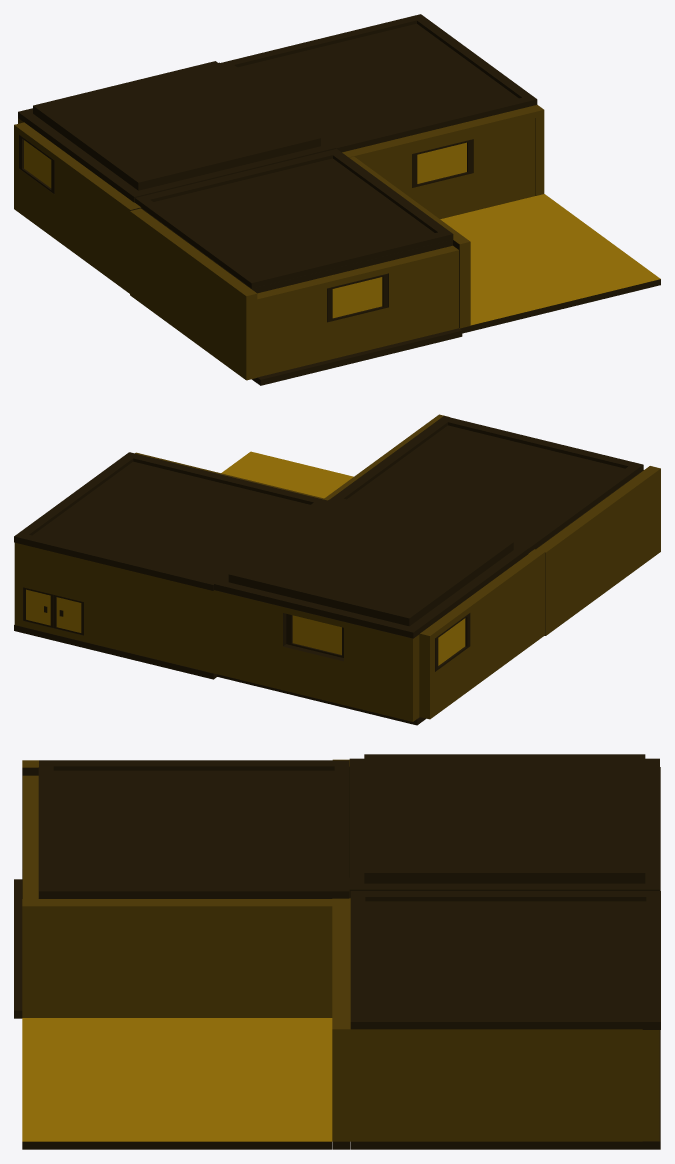
File: Side_House_Blocks.fbx
The picture shows the model from 3 angles, top to bottom: view 1: azimuth 30°, elevation 25°; view 2: azimuth 150°, elevation 25°; view 3: azimuth 270°, elevation 25°; orthographic projection. The views are drawn at different scales.
Parts seen in each view (by area): view 1: polySurface89, polySurface86, polySurface88, polySurface69, polySurface71, polySurface65, polySurface85, polySurface80, polySurface81, polySurface76, polySurface68, polySurface66 (+3 smaller); view 2: polySurface86, polySurface88, polySurface89, polySurface67, polySurface82, polySurface65, polySurface85, polySurface69, polySurface75, polySurface79, polySurface77, polySurface72 (+3 smaller); view 3: polySurface89, polySurface88, polySurface86, polySurface69, polySurface81, polySurface70, polySurface79, polySurface71, polySurface82, polySurface66.
Boxes of the visible parts, x1=… form: polySurface89: x1=135, y1=149, x2=453, y2=288; polySurface86: x1=18, y1=61, x2=335, y2=202; polySurface88: x1=220, y1=14, x2=537, y2=152; polySurface69: x1=440, y1=194, x2=660, y2=333; polySurface71: x1=254, y1=245, x2=458, y2=381; polySurface65: x1=130, y1=208, x2=257, y2=380; polySurface85: x1=14, y1=122, x2=141, y2=293; polySurface80: x1=360, y1=118, x2=535, y2=219; polySurface81: x1=342, y1=105, x2=544, y2=195; polySurface76: x1=327, y1=273, x2=388, y2=322; polySurface68: x1=412, y1=139, x2=473, y2=187; polySurface66: x1=252, y1=328, x2=462, y2=385; polySurface86: x1=214, y1=498, x2=528, y2=638; polySurface88: x1=14, y1=452, x2=327, y2=590; polySurface89: x1=330, y1=416, x2=643, y2=552; polySurface67: x1=213, y1=590, x2=419, y2=721; polySurface82: x1=14, y1=542, x2=213, y2=672; polySurface65: x1=536, y1=466, x2=660, y2=635; polySurface85: x1=419, y1=549, x2=545, y2=719; polySurface69: x1=221, y1=451, x2=353, y2=498; polySurface75: x1=286, y1=614, x2=343, y2=657; polySurface79: x1=14, y1=625, x2=217, y2=679; polySurface77: x1=435, y1=613, x2=470, y2=671; polySurface72: x1=53, y1=595, x2=83, y2=635; polySurface89: x1=39, y1=760, x2=349, y2=898; polySurface88: x1=350, y1=891, x2=660, y2=1029; polySurface86: x1=349, y1=754, x2=659, y2=897; polySurface69: x1=22, y1=1018, x2=332, y2=1149; polySurface81: x1=332, y1=898, x2=642, y2=1141; polySurface70: x1=22, y1=899, x2=332, y2=1017; polySurface79: x1=350, y1=1030, x2=660, y2=1149; polySurface71: x1=22, y1=775, x2=38, y2=898; polySurface82: x1=642, y1=1030, x2=659, y2=1141; polySurface66: x1=14, y1=879, x2=22, y2=1018.
Size of the model in its own units: 1335 by 322 by 1354.
